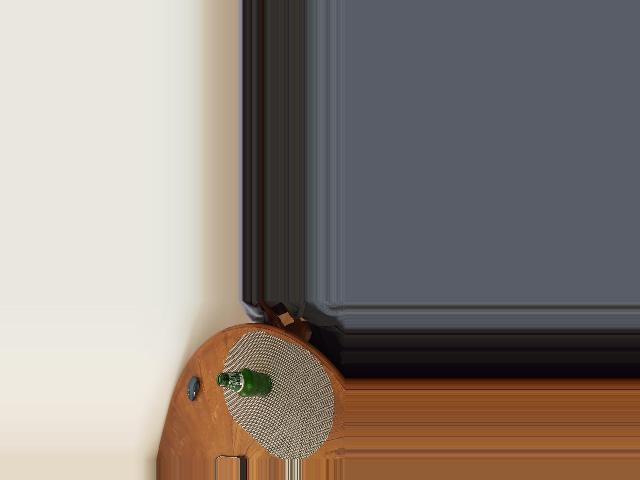beer: (216, 367, 271, 398)
